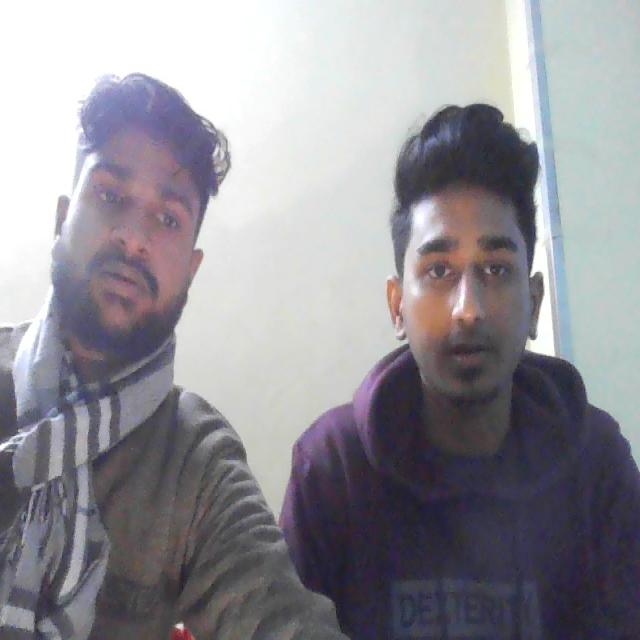real: (390, 120, 553, 428), (63, 89, 202, 352)
